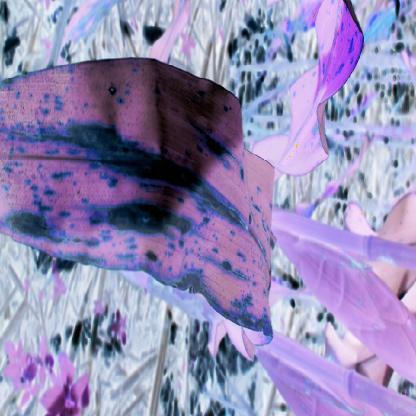Corn leaf blight: (2, 58, 279, 334), (258, 1, 364, 186)
